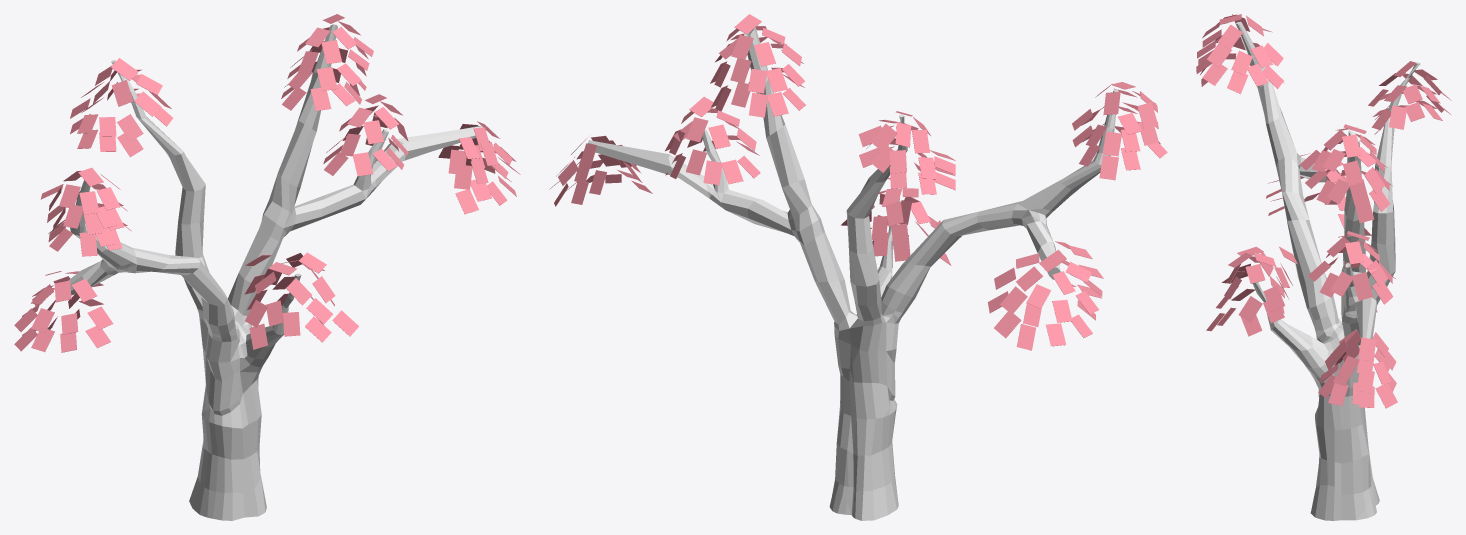
Rendered from sakura.fbx.
3 views of the same model, side by side, from view 1: azimuth 30°, elevation 25°; view 2: azimuth 150°, elevation 25°; view 3: azimuth 270°, elevation 25° (orthographic). The views are drawn at different scales.
Parts seen in each view (by area): view 1: Cube, 平面.155; view 2: Cube, 平面.155; view 3: 平面.155, Cube.
Boxes of the visible parts, x1=… form: Cube: x1=68, y1=24, x2=482, y2=520; 平面.155: x1=14, y1=14, x2=520, y2=352; Cube: x1=588, y1=27, x2=1118, y2=520; 平面.155: x1=549, y1=14, x2=1167, y2=350; 平面.155: x1=1196, y1=14, x2=1451, y2=408; Cube: x1=1236, y1=21, x2=1420, y2=520.
Size of the model in its own units: 2149 by 939 by 1761.
